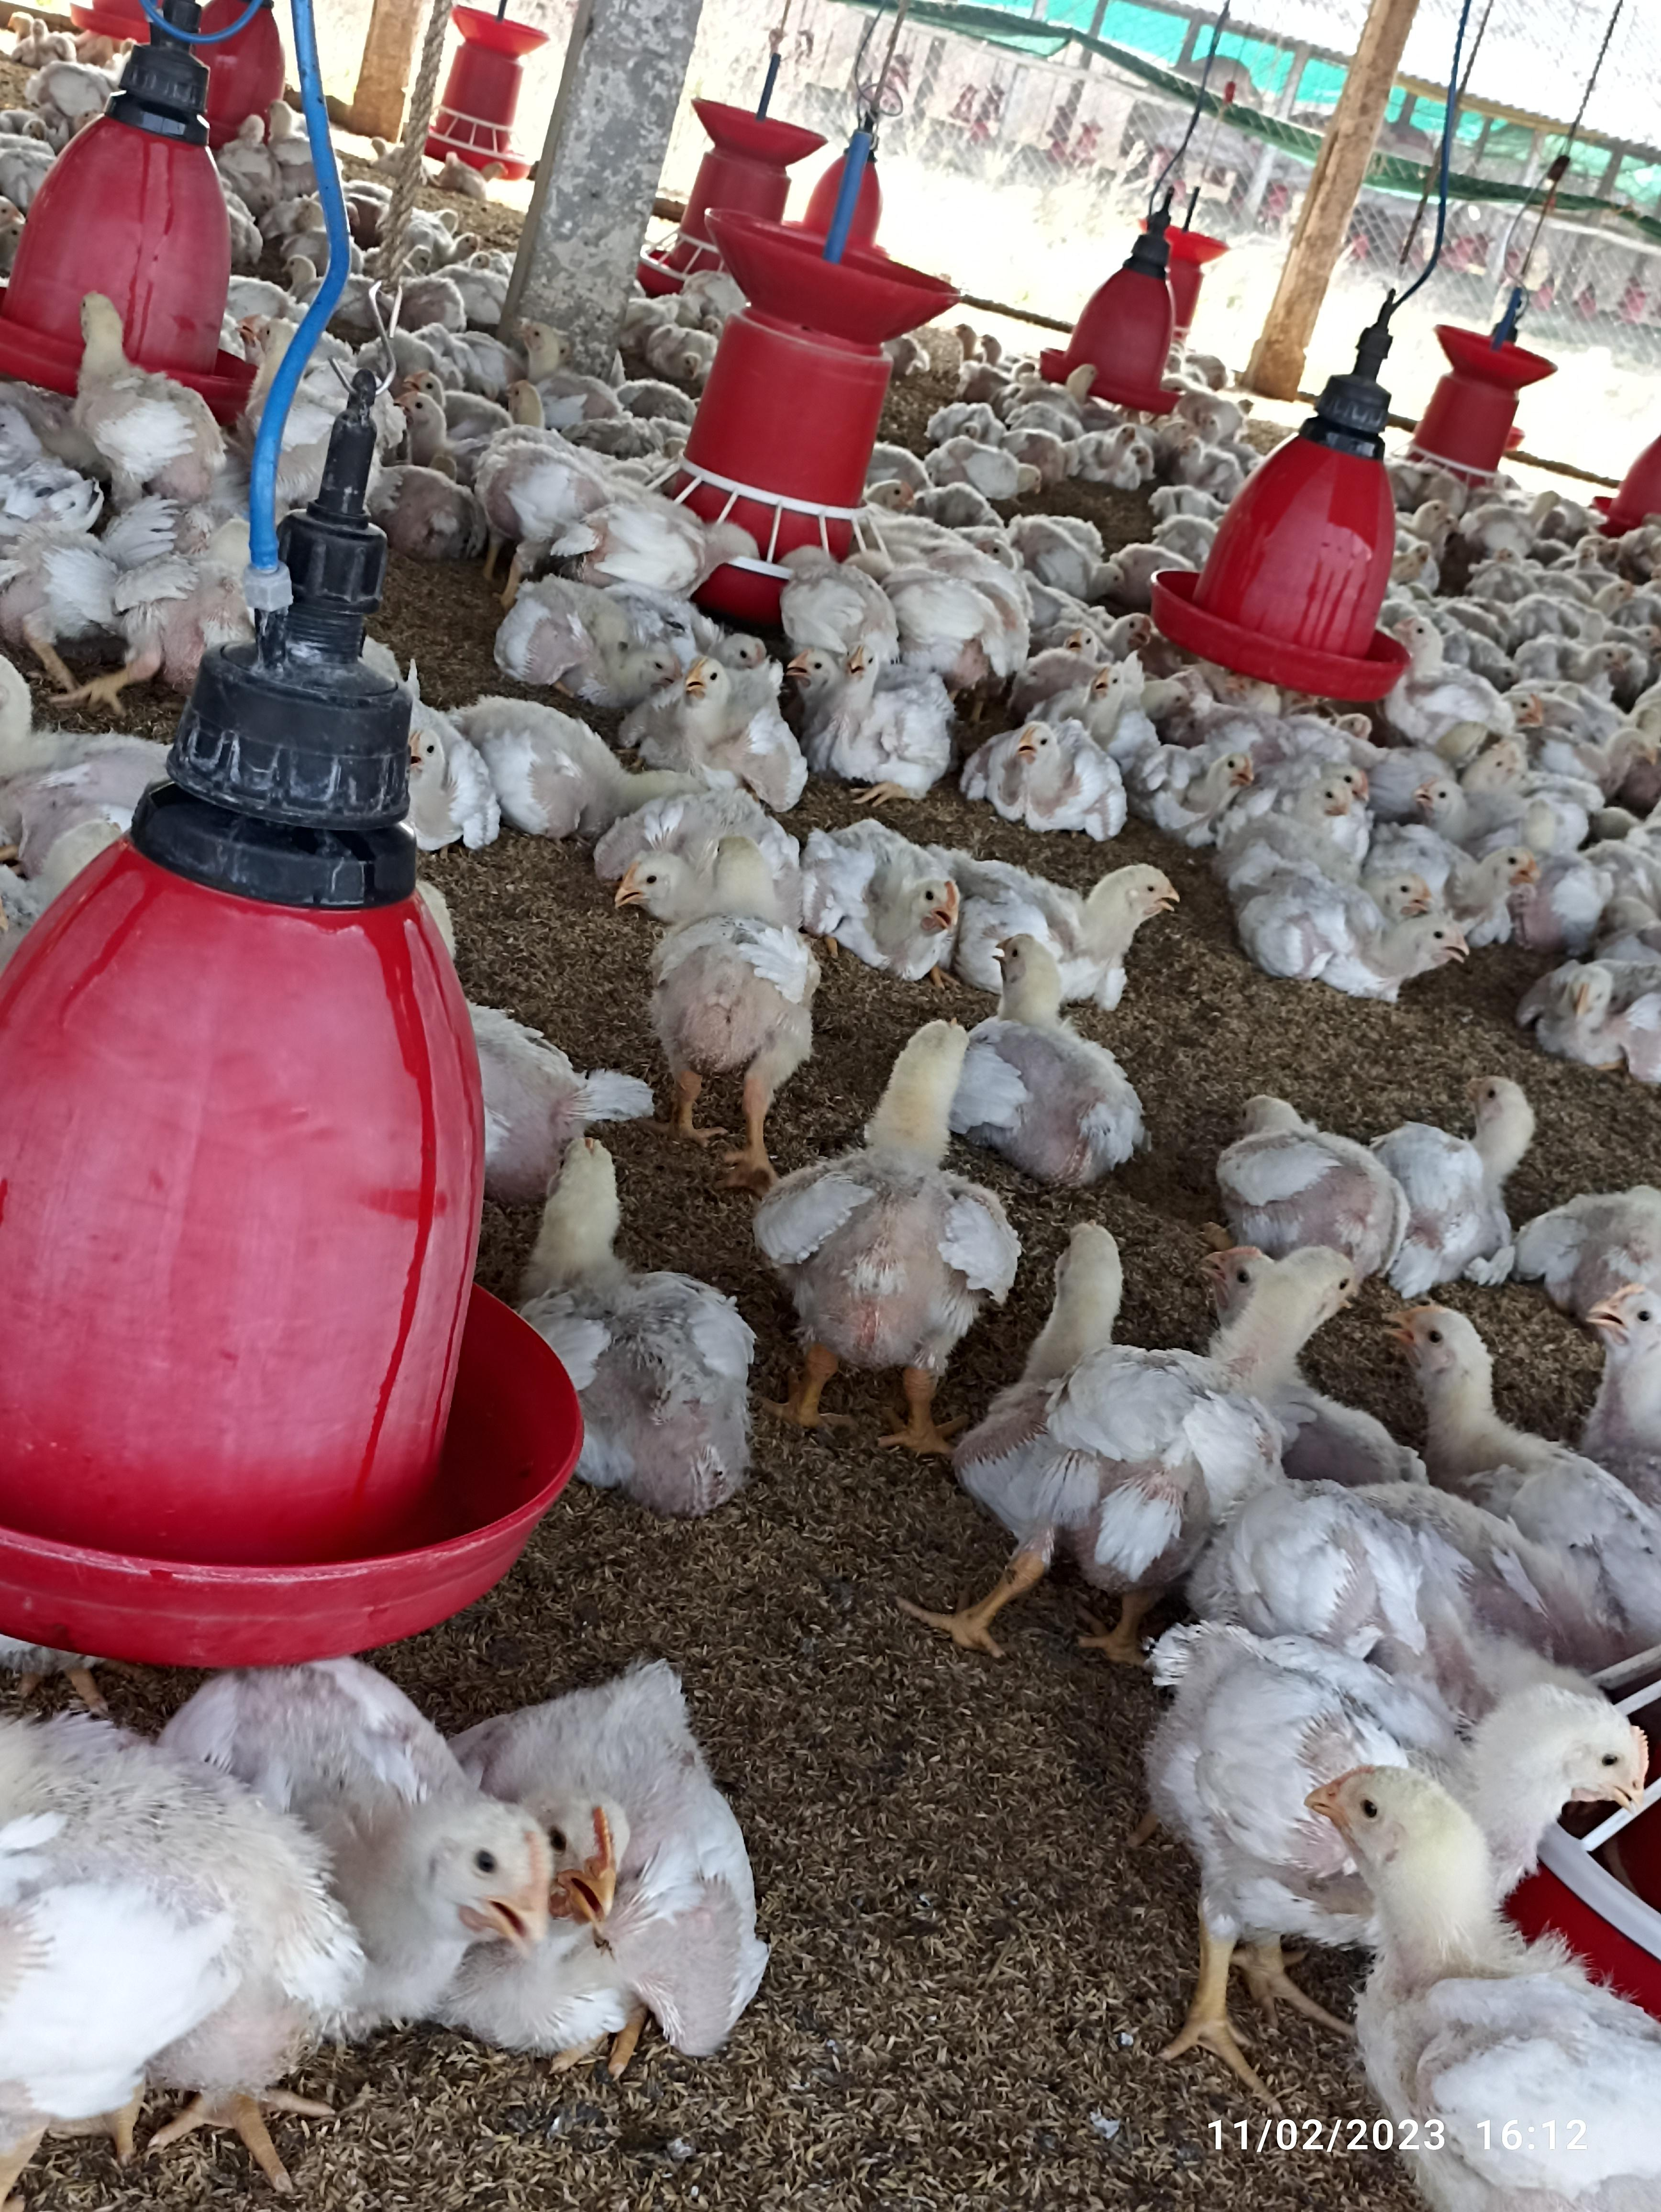Pollos: (349, 1631, 761, 2064), (1310, 1767, 1661, 2212), (0, 1710, 359, 2114), (1148, 1605, 1654, 1891), (977, 1228, 1284, 1547), (525, 1116, 757, 1528), (771, 1022, 1017, 1376), (1378, 1287, 1661, 1594), (960, 951, 1145, 1178), (605, 836, 785, 1052), (1378, 1069, 1549, 1280), (1244, 857, 1476, 1001), (68, 290, 218, 495), (1220, 1094, 1385, 1268), (937, 864, 1190, 975), (811, 816, 974, 965), (630, 654, 804, 789), (824, 640, 944, 802), (1521, 942, 1661, 1076), (1389, 609, 1514, 748), (974, 719, 1122, 836), (1237, 759, 1363, 870), (1139, 747, 1258, 827)
